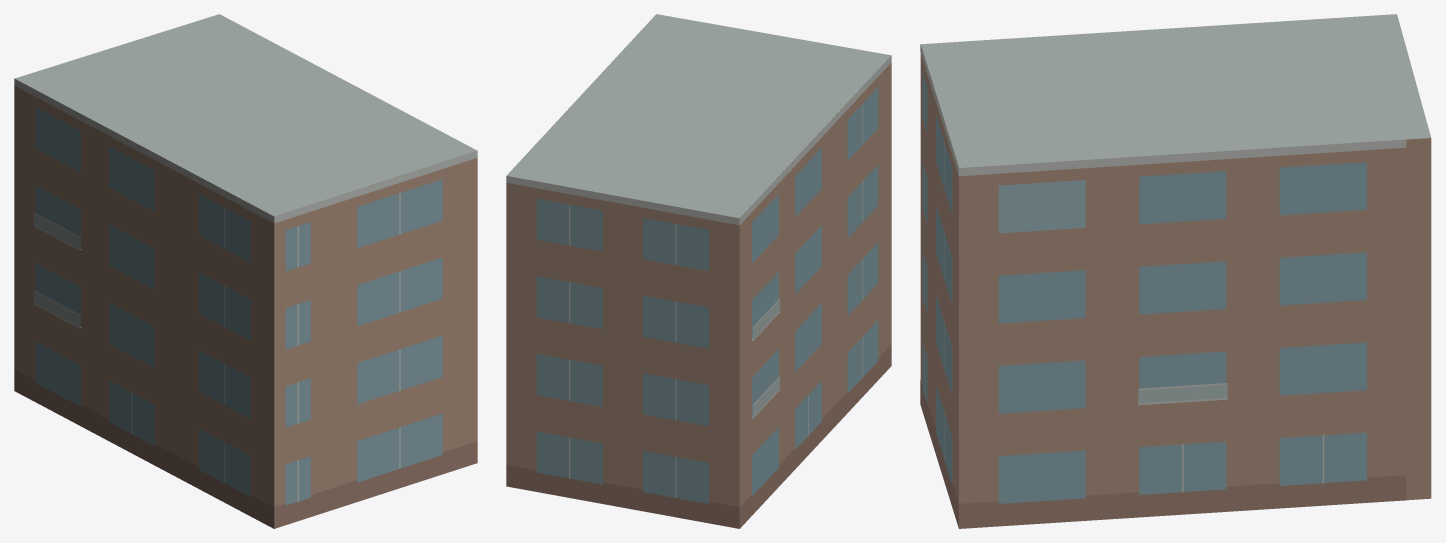
The model's file is survey-upis-32980170.glb.
The picture shows the model from 3 angles, left to right: view 1: azimuth 30°, elevation 25°; view 2: azimuth 150°, elevation 25°; view 3: azimuth 270°, elevation 25°; orthographic projection. The views are drawn at different scales.
Visible parts, largest first — view 1: survey-upis-32980170.tmp; view 2: survey-upis-32980170.tmp; view 3: survey-upis-32980170.tmp.
Boxes of the visible parts, x1=… form: survey-upis-32980170.tmp: x1=14, y1=14, x2=477, y2=528; survey-upis-32980170.tmp: x1=506, y1=14, x2=891, y2=528; survey-upis-32980170.tmp: x1=920, y1=14, x2=1431, y2=528.
Size of the model in its own units: 9.9 by 10.8 by 13.87.
